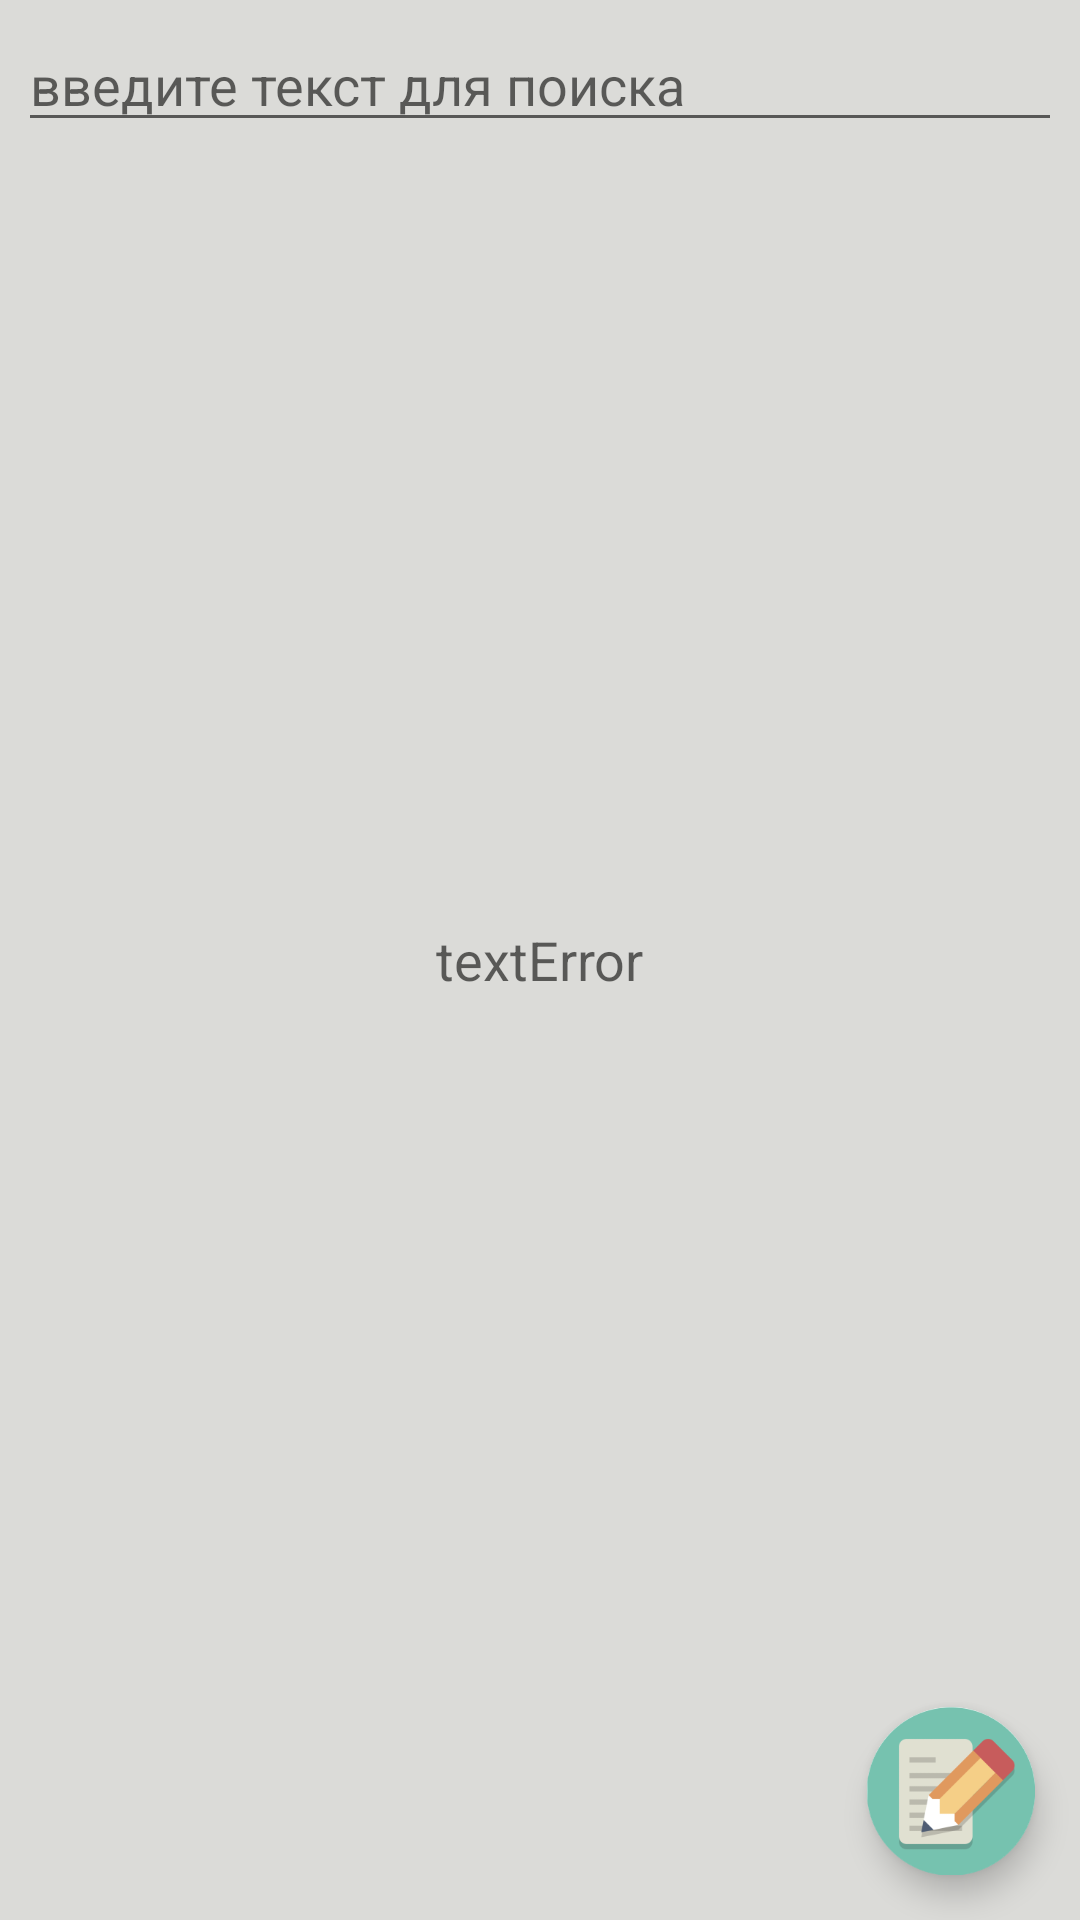

Screen size 1080px×1920px. Icon name, then its center in pixels as (x=x, y=y):
write note: (x=951, y=1791)
